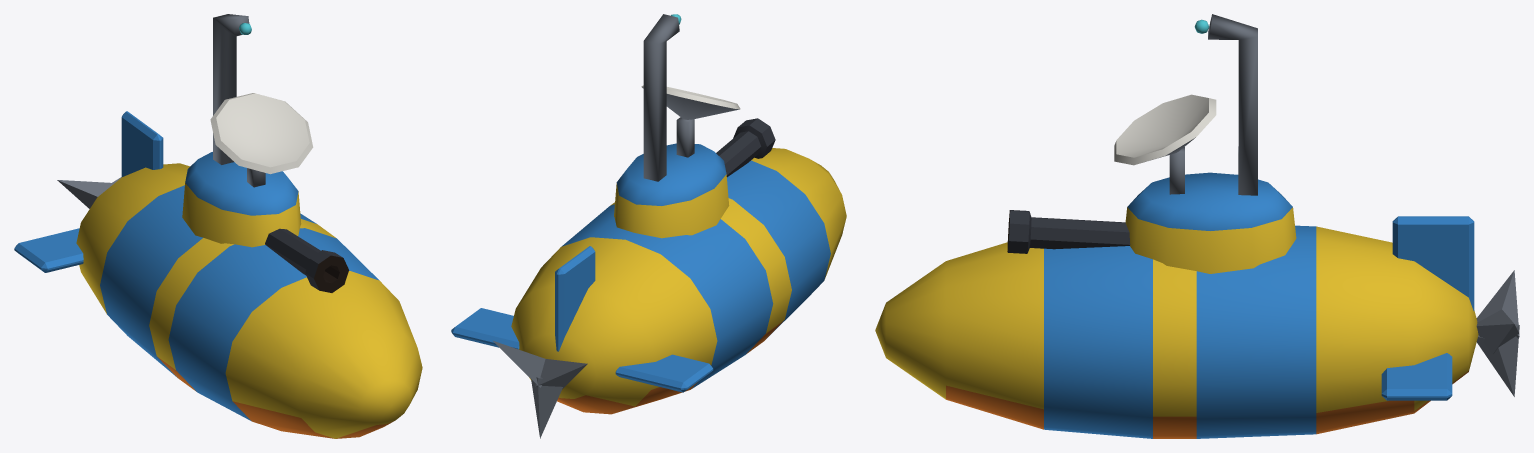
3 renders of one model, left to right at view 1: azimuth 30°, elevation 25°; view 2: azimuth 150°, elevation 25°; view 3: azimuth 270°, elevation 25°, orthographic. The views are drawn at different scales.
Parts seen in each view (by area): view 1: submarino_0_base, submarino_1_torreta; view 2: submarino_0_base, submarino_1_torreta; view 3: submarino_0_base, submarino_1_torreta.
Part boxes in pixels (x1,y1,x2,y2): submarino_0_base: (14,111,422,438); submarino_1_torreta: (182,14,348,292); submarino_0_base: (451,148,846,438); submarino_1_torreta: (614,14,775,238); submarino_0_base: (875,216,1519,438); submarino_1_torreta: (1007,14,1296,273).
Bounding box in the file's own units: 0.58 × 0.8253 × 1.18.
